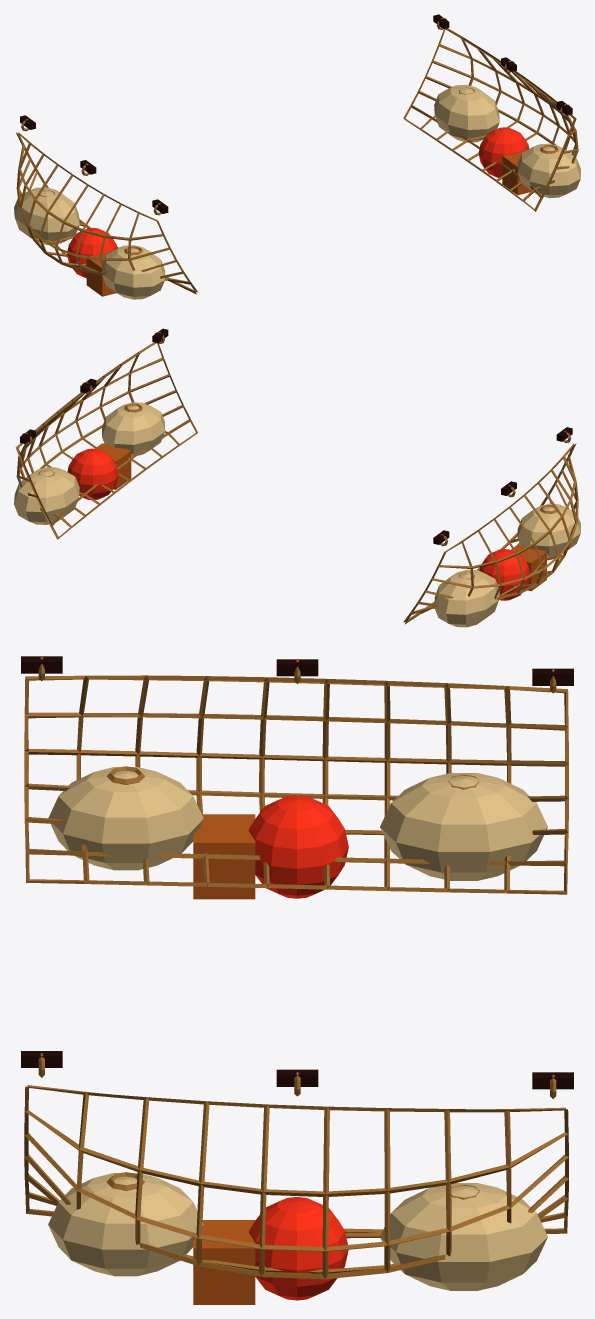
Rendered from tb_upg_cargo_nets.glb.
The picture shows the model from 3 angles, top to bottom: view 1: azimuth 30°, elevation 25°; view 2: azimuth 150°, elevation 25°; view 3: azimuth 270°, elevation 25°; orthographic projection. The views are drawn at different scales.
Visible parts, largest first — view 1: tb_upg_cargo_nets_mesh; view 2: tb_upg_cargo_nets_mesh; view 3: tb_upg_cargo_nets_mesh.
Part boxes in pixels (left/top/right/bottom): tb_upg_cargo_nets_mesh: left=14, top=14, right=580, bottom=299; tb_upg_cargo_nets_mesh: left=14, top=328, right=580, bottom=627; tb_upg_cargo_nets_mesh: left=21, top=656, right=573, bottom=1304.
Bounding box in the file's own units: 4.5 × 1.02 × 2.13.
